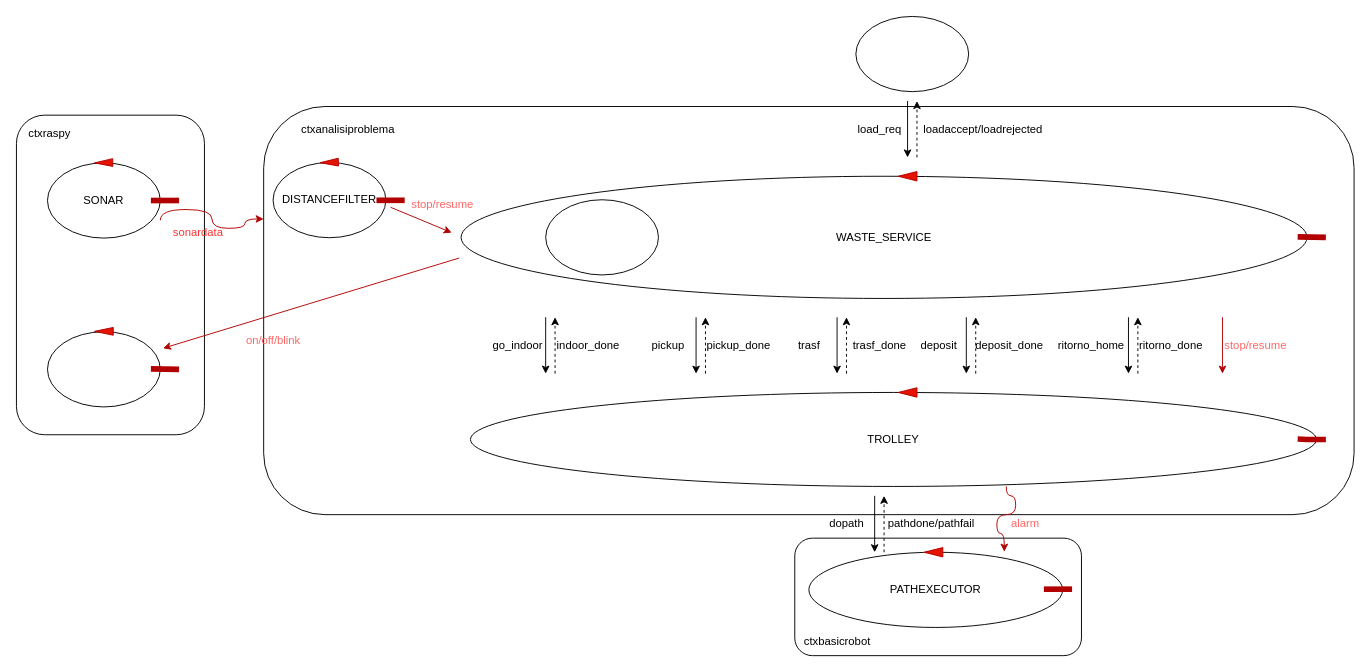
Image size: 1371x672. Some labels were removed from this diagram. Each missing label, with the centre of its shape:
LED: point 103,369
PLANNER: point 601,237
WASTE_TRUCK: point 912,54
